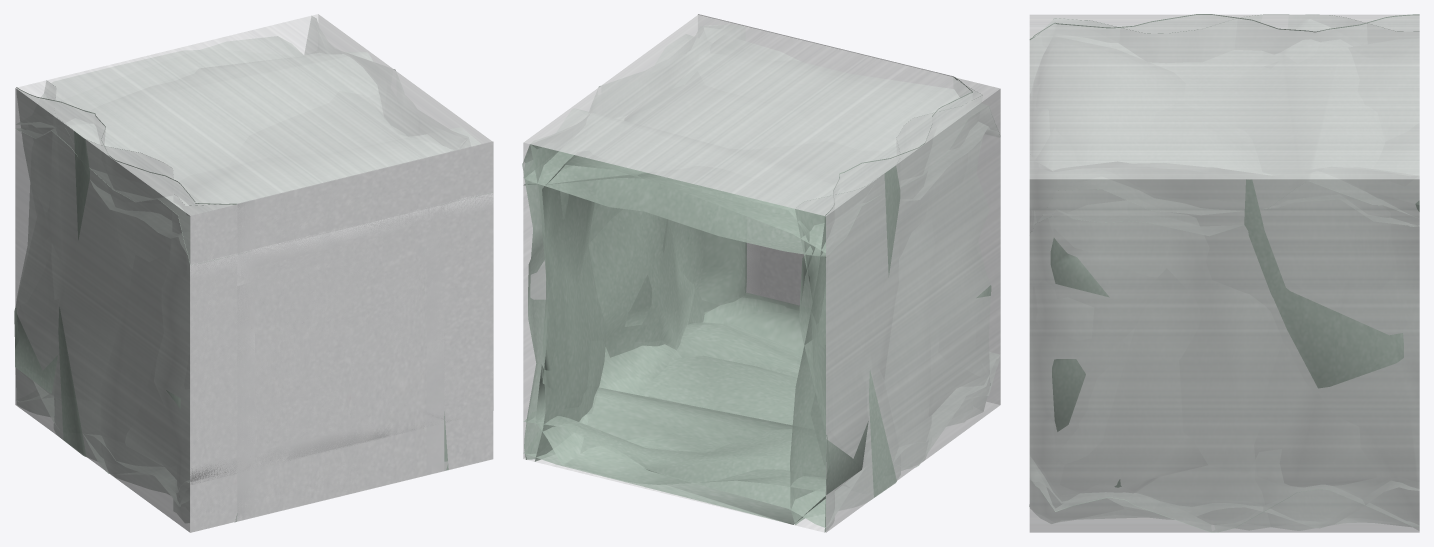
The model's file is glass_slice.glb.
3 views of the same model, side by side, from view 1: azimuth 30°, elevation 25°; view 2: azimuth 150°, elevation 25°; view 3: azimuth 270°, elevation 25° (orthographic). The views are drawn at different scales.
Parts seen in each view (by area): view 1: Center, Left, Top_Right, Top_Left, Bottom_Left, Top, Bottom, Bottom_Right, Right; view 2: Center, Bottom_Left, Top_Left, Bottom_Right, Right, Top_Right, Left, Top, Bottom; view 3: Center, Right, Top_Right, Bottom_Right, Top, Top_Left, Bottom_Left, Left, Bottom.
Boxes of the visible parts, x1,y1,x2,y2 form: Center: (15, 14, 493, 532); Left: (16, 87, 493, 522); Top_Right: (18, 36, 450, 532); Top_Left: (14, 50, 493, 520); Bottom_Left: (15, 80, 493, 480); Top: (16, 52, 480, 532); Bottom: (16, 164, 439, 506); Bottom_Right: (34, 16, 466, 492); Right: (318, 31, 470, 473); Center: (523, 15, 1000, 532); Bottom_Left: (523, 15, 983, 524); Top_Left: (523, 34, 982, 532); Bottom_Right: (530, 25, 999, 492); Right: (522, 25, 999, 459); Top_Right: (534, 35, 999, 461); Left: (698, 14, 991, 524); Top: (523, 103, 1000, 257); Bottom: (523, 297, 999, 527); Center: (1029, 14, 1419, 532); Right: (1029, 157, 1419, 530); Top_Right: (1030, 19, 1418, 529); Bottom_Right: (1030, 154, 1417, 498); Top: (1030, 34, 1408, 236); Top_Left: (1030, 36, 1419, 233); Bottom_Left: (1030, 14, 1419, 532); Left: (1029, 14, 1419, 53); Bottom: (1030, 457, 1418, 527).
Bounding box in the file's own units: 1.02 × 1.01 × 1.
2 materials, 2 textured.
